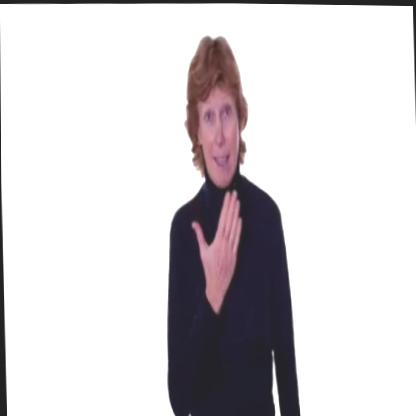ThankYou: (160, 30, 299, 416)
